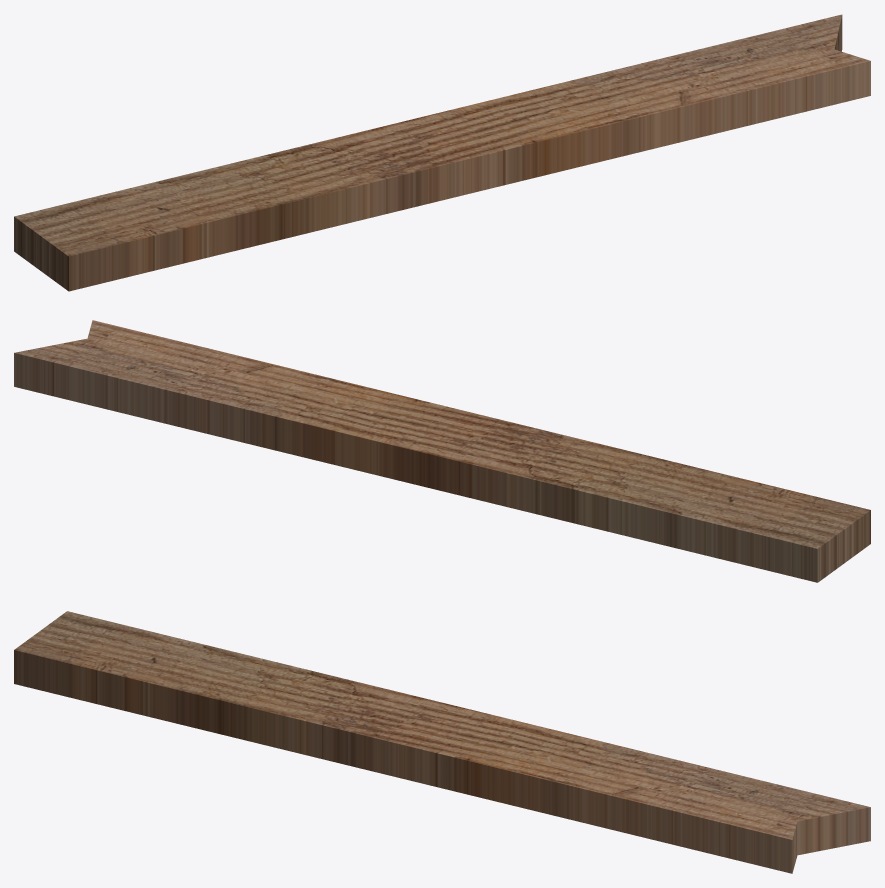
The model's file is Debris_woodScrap3.fbx.
3 views of the same model, one above another, from view 1: azimuth 30°, elevation 25°; view 2: azimuth 150°, elevation 25°; view 3: azimuth 330°, elevation 25° (orthographic). The views are drawn at different scales.
Parts seen in each view (by area): view 1: pCube4; view 2: pCube4; view 3: pCube4.
Boxes of the visible parts, left/top/right/bottom form: pCube4: left=14, top=14, right=870, bottom=291; pCube4: left=14, top=320, right=870, bottom=582; pCube4: left=14, top=611, right=870, bottom=873.
Bounding box in the file's own units: 16.56 × 0.6677 × 1.9.
1 material, 1 textured.
